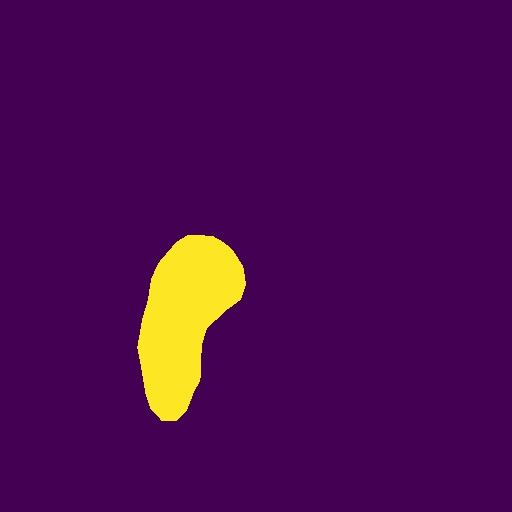Gliomia_tumour: (137, 235, 246, 421)
